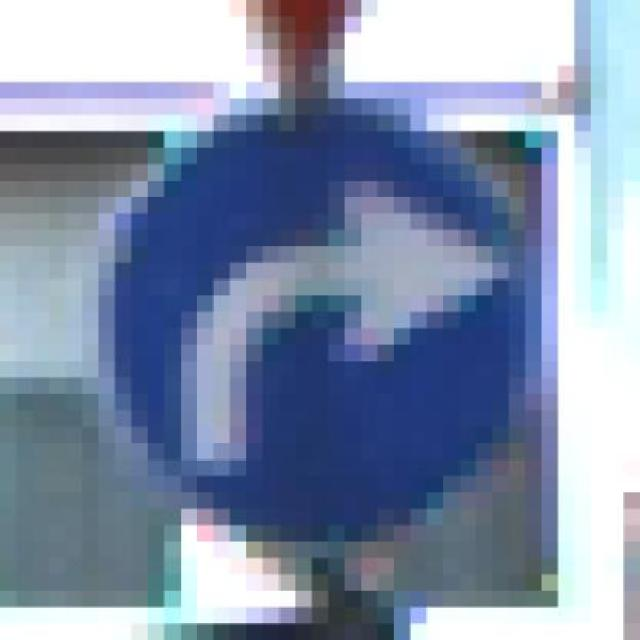Turn right ahead: (49, 81, 542, 542)
